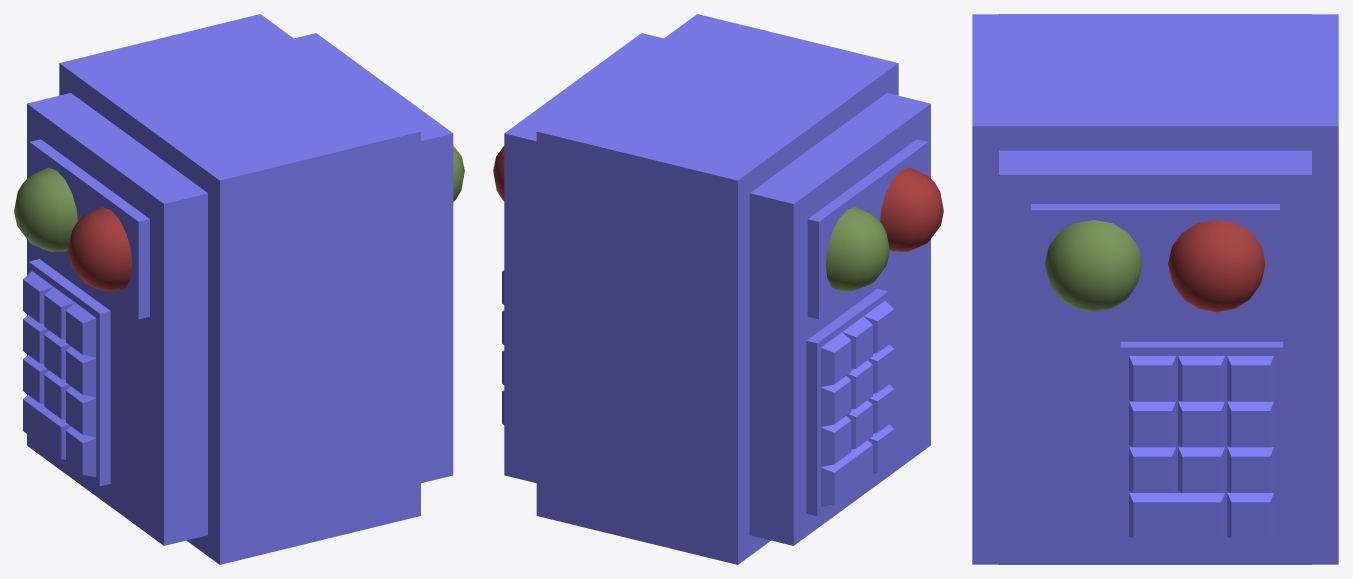
File: SM_Dummy_Codelock.fbx
3 views of the same model, side by side, from view 1: azimuth 30°, elevation 25°; view 2: azimuth 150°, elevation 25°; view 3: azimuth 270°, elevation 25° (orthographic). The views are drawn at different scales.
Visible parts, largest first — view 1: SM_Dummy_Codelock; view 2: SM_Dummy_Codelock; view 3: SM_Dummy_Codelock.
Part boxes in pixels (x1,y1,x2,y2): SM_Dummy_Codelock: (14, 14, 464, 564); SM_Dummy_Codelock: (493, 14, 943, 564); SM_Dummy_Codelock: (972, 14, 1338, 564).
Size of the model in its own units: 30.38 by 21.91 by 28.92.
Materials: 2 (2 with a texture image).
